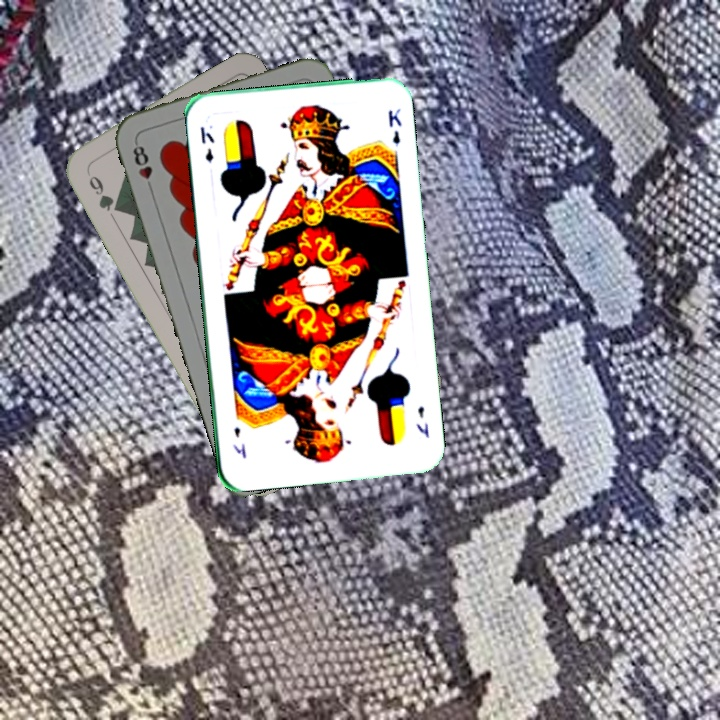EK: (196, 122, 217, 165), (412, 402, 431, 441)
G9: (82, 166, 124, 215)
H8: (128, 137, 156, 195)
